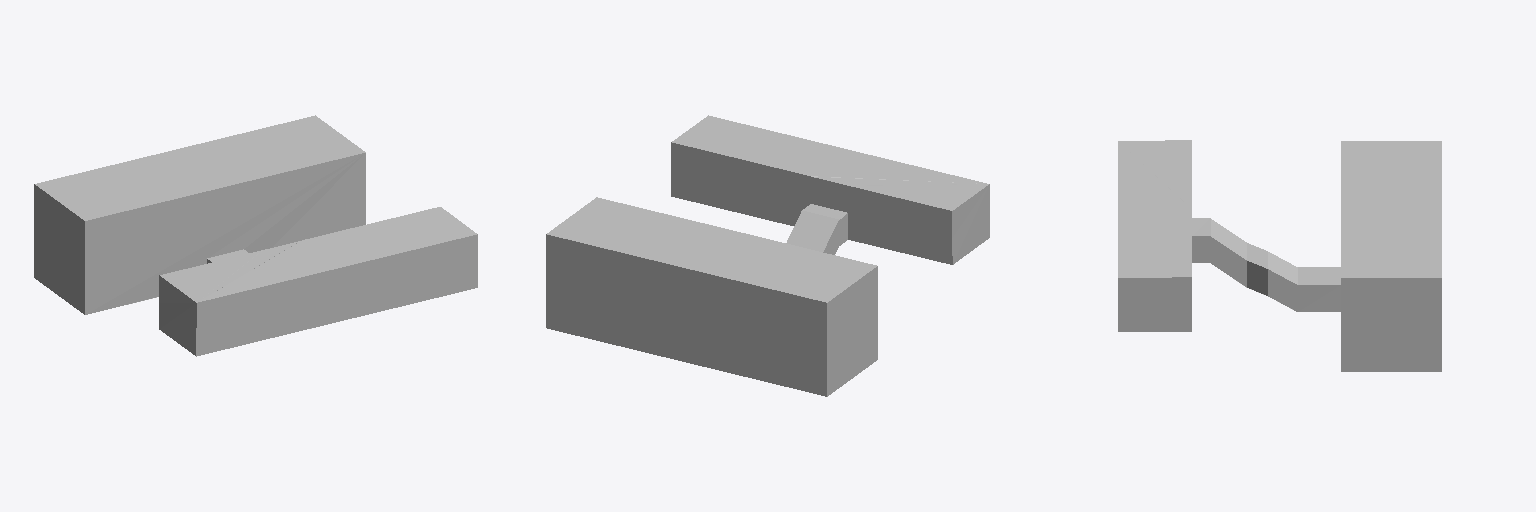
File: salleAccroupie.obj
3 views of the same model, side by side, from view 1: azimuth 30°, elevation 25°; view 2: azimuth 150°, elevation 25°; view 3: azimuth 270°, elevation 25° (orthographic).
Visible parts, largest first — view 1: Cube_Cube.001; view 2: Cube_Cube.001; view 3: Cube_Cube.001.
Part boxes in pixels (x1,y1,x2,y2): Cube_Cube.001: (34,115,477,356); Cube_Cube.001: (546,115,989,396); Cube_Cube.001: (1118,140,1441,371).
Bounding box in the file's own units: 15.01 × 4.82 × 15.